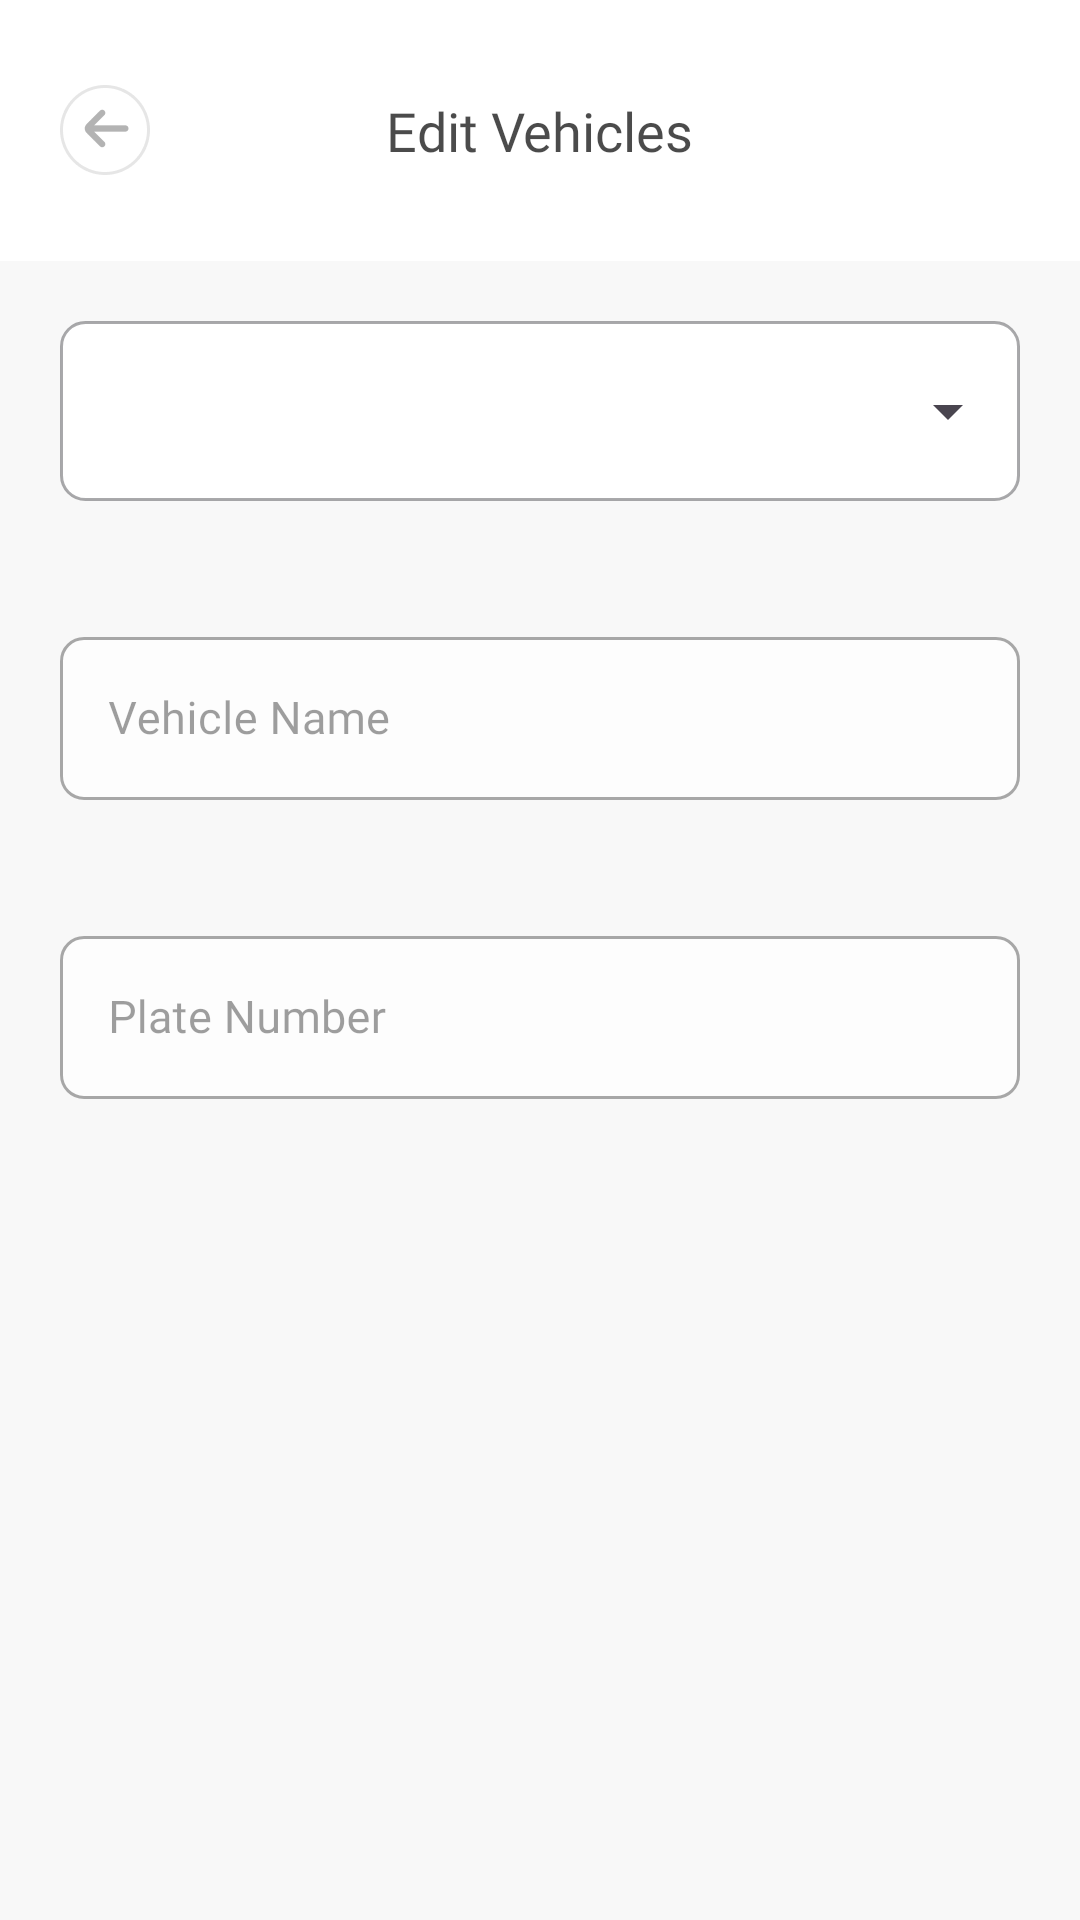

Locate icon controls on the screen. Image size 1080*1920, boxes as (x1, y1, x2, y2).
back: (60, 85, 150, 175)
